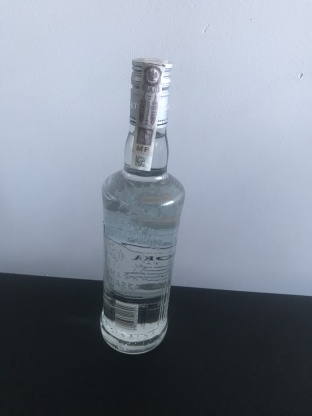nakretka: (126, 53, 174, 131)
